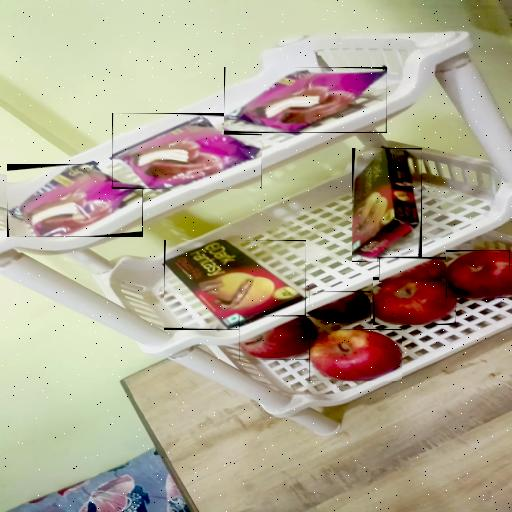Apple: (309, 329, 402, 381), (373, 277, 456, 325), (239, 316, 319, 360), (446, 250, 510, 298), (309, 291, 371, 323), (379, 257, 446, 282)
Choco Fills: (164, 240, 306, 330), (352, 148, 422, 262)
Choco Pie: (112, 113, 262, 189), (224, 67, 387, 133), (7, 164, 143, 237)
